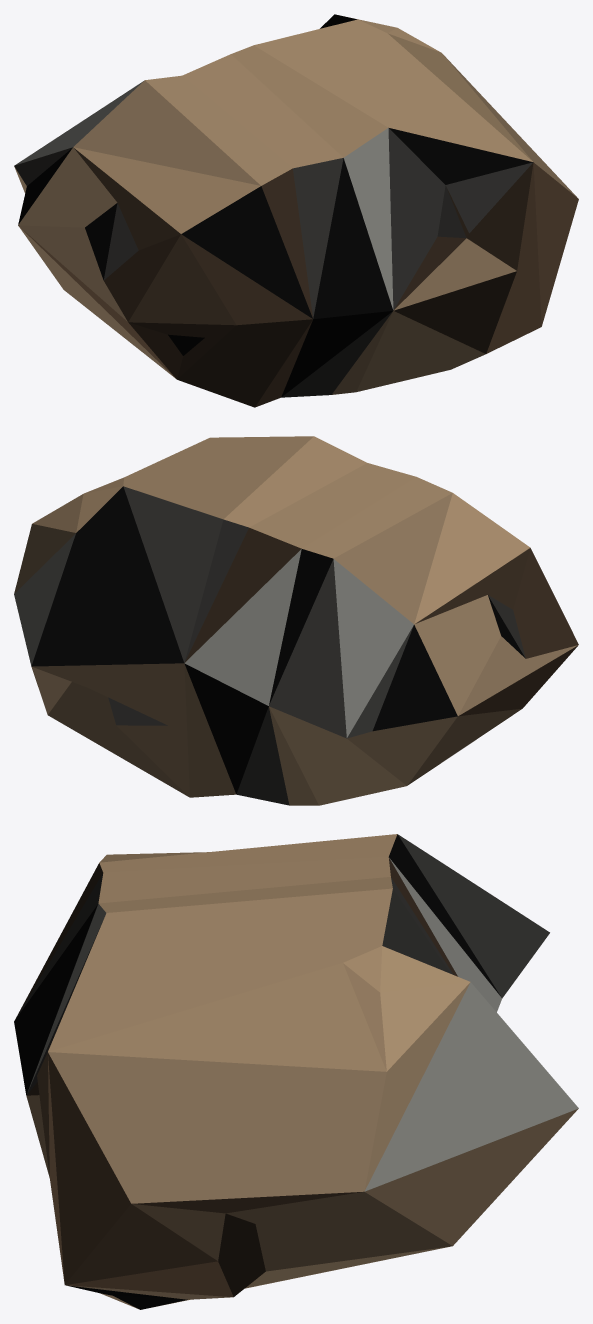
Rendered from CoalOreRock.glb.
The picture shows the model from 3 angles, top to bottom: view 1: azimuth 30°, elevation 25°; view 2: azimuth 150°, elevation 25°; view 3: azimuth 270°, elevation 25°; orthographic projection. The views are drawn at different scales.
Parts seen in each view (by area): view 1: CoalOreRock_ExportDarkBrown; view 2: CoalOreRock_ExportDarkBrown; view 3: CoalOreRock_ExportDarkBrown.
Part boxes in pixels (<box>): CoalOreRock_ExportDarkBrown: <box>14,14,578,407</box>; CoalOreRock_ExportDarkBrown: <box>14,436,578,805</box>; CoalOreRock_ExportDarkBrown: <box>14,834,578,1309</box>.
Size of the model in its own units: 0.2701 by 0.1591 by 0.2236.
